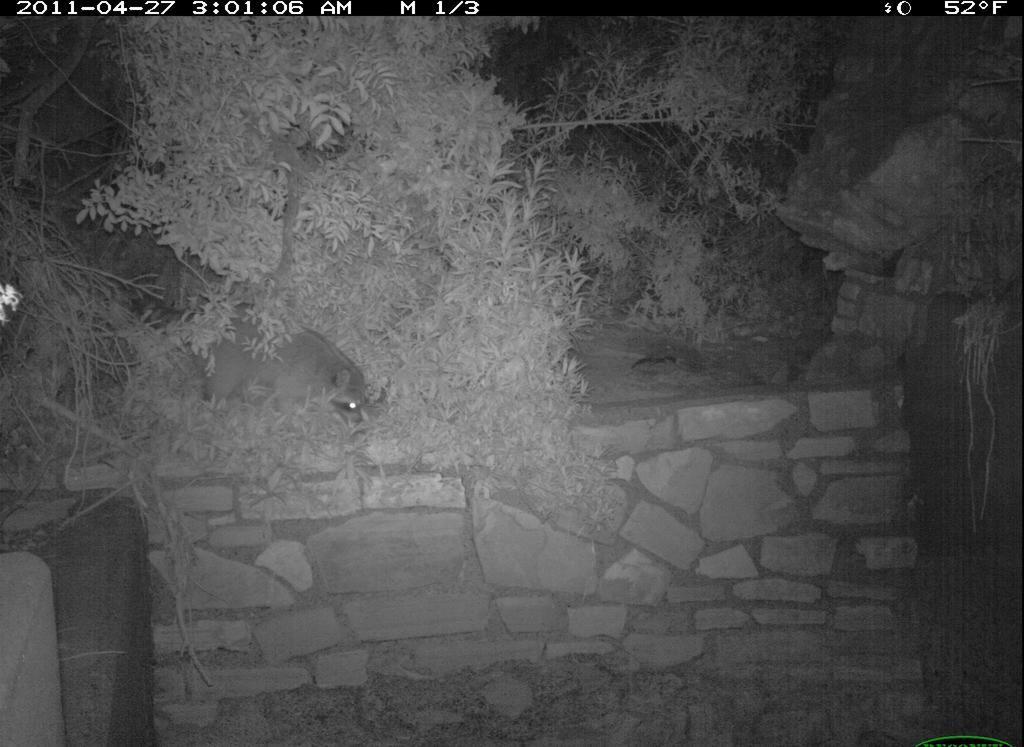raccoon: (171, 300, 383, 437)
